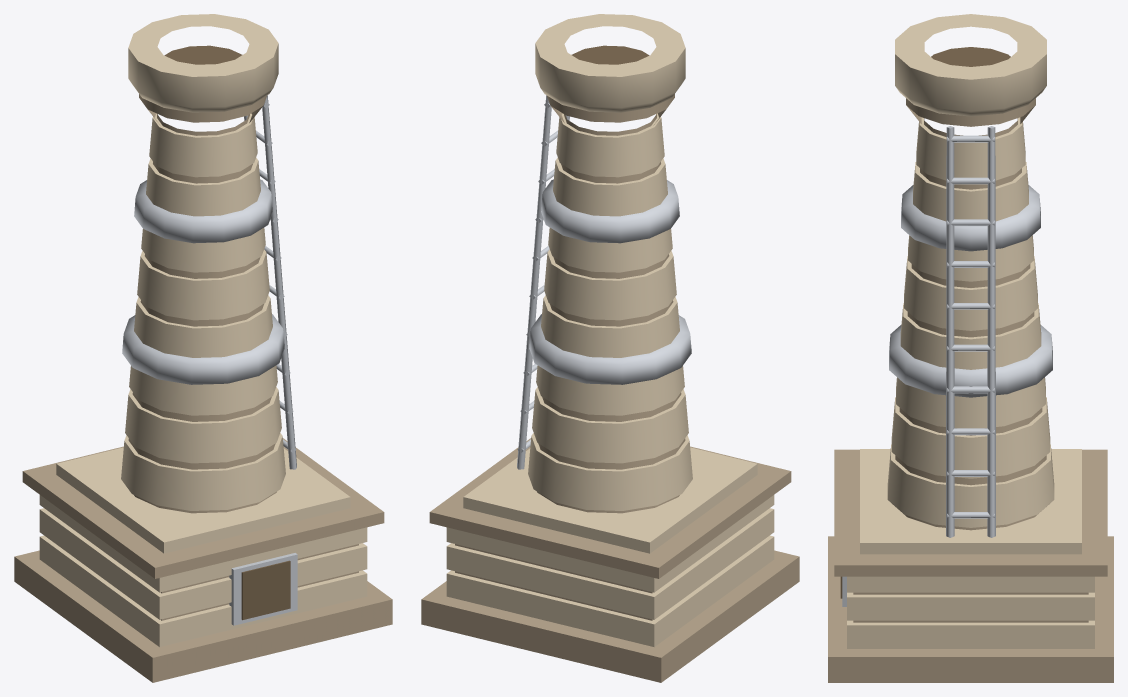
Rendered from building.smokestack.glb.
3 views of the same model, side by side, from view 1: azimuth 30°, elevation 25°; view 2: azimuth 150°, elevation 25°; view 3: azimuth 270°, elevation 25° (orthographic). The views are drawn at different scales.
Parts seen in each view (by area): view 1: Paint, PaintDark, Metal, Door; view 2: Paint, PaintDark, Metal, Door; view 3: Paint, PaintDark, Metal, Door.
Boxes of the visible parts, x1,y1,x2,y2 form: Paint: (39,14,367,647); PaintDark: (14,94,392,682); Metal: (122,95,297,625); Door: (164,45,290,620); Paint: (446,14,774,647); PaintDark: (421,94,799,682); Metal: (517,95,691,469); Door: (571,45,649,64); Paint: (847,14,1094,648); PaintDark: (828,98,1113,682); Metal: (842,126,1052,606); Door: (840,47,1010,598).
Bounding box in the file's own units: 0.9 × 2 × 0.9.
